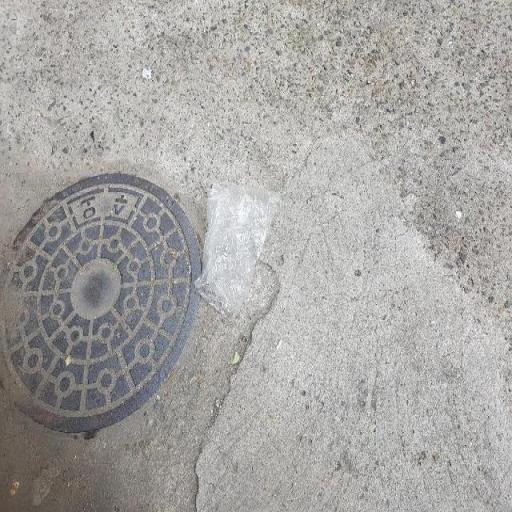plastic-bag: (194, 185, 284, 322)
